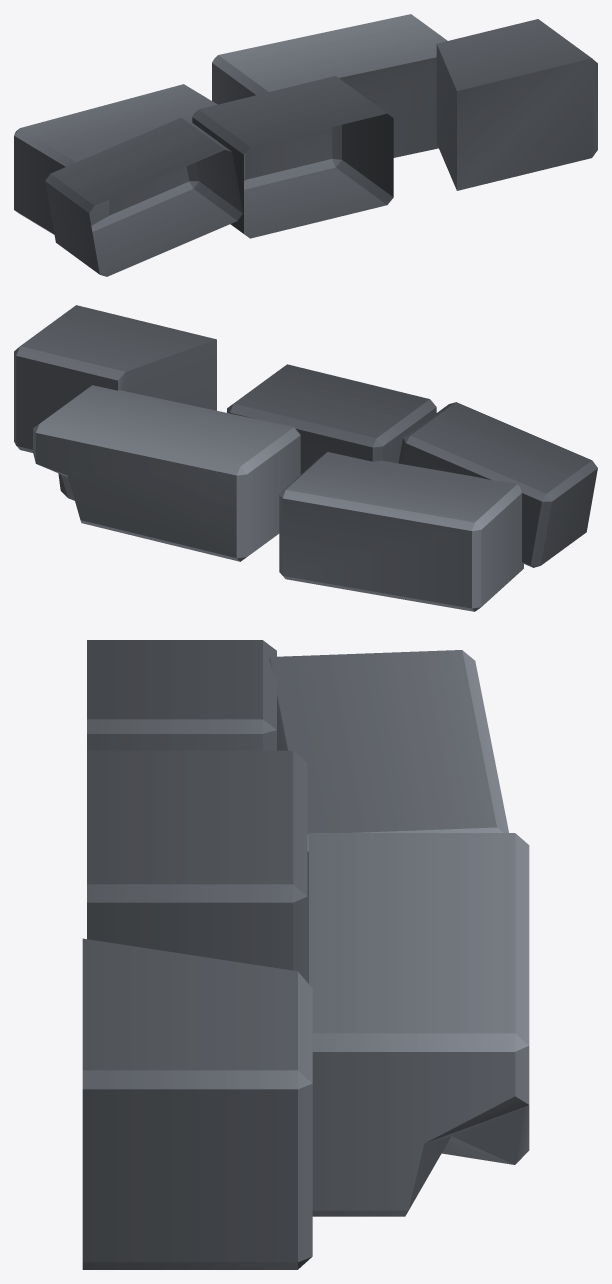
Rendered from Debris 04.FBX.
3 views of the same model, one above another, from view 1: azimuth 30°, elevation 25°; view 2: azimuth 150°, elevation 25°; view 3: azimuth 270°, elevation 25° (orthographic). The views are drawn at different scales.
Parts seen in each view (by area): view 1: Debris 04; view 2: Debris 04; view 3: Debris 04.
Part boxes in pixels (x1,y1,x2,y2): Debris 04: [14, 14, 597, 276]; Debris 04: [14, 305, 597, 611]; Debris 04: [82, 640, 529, 1269].
Bounding box in the file's own units: 261 × 55.6 × 99.54.
